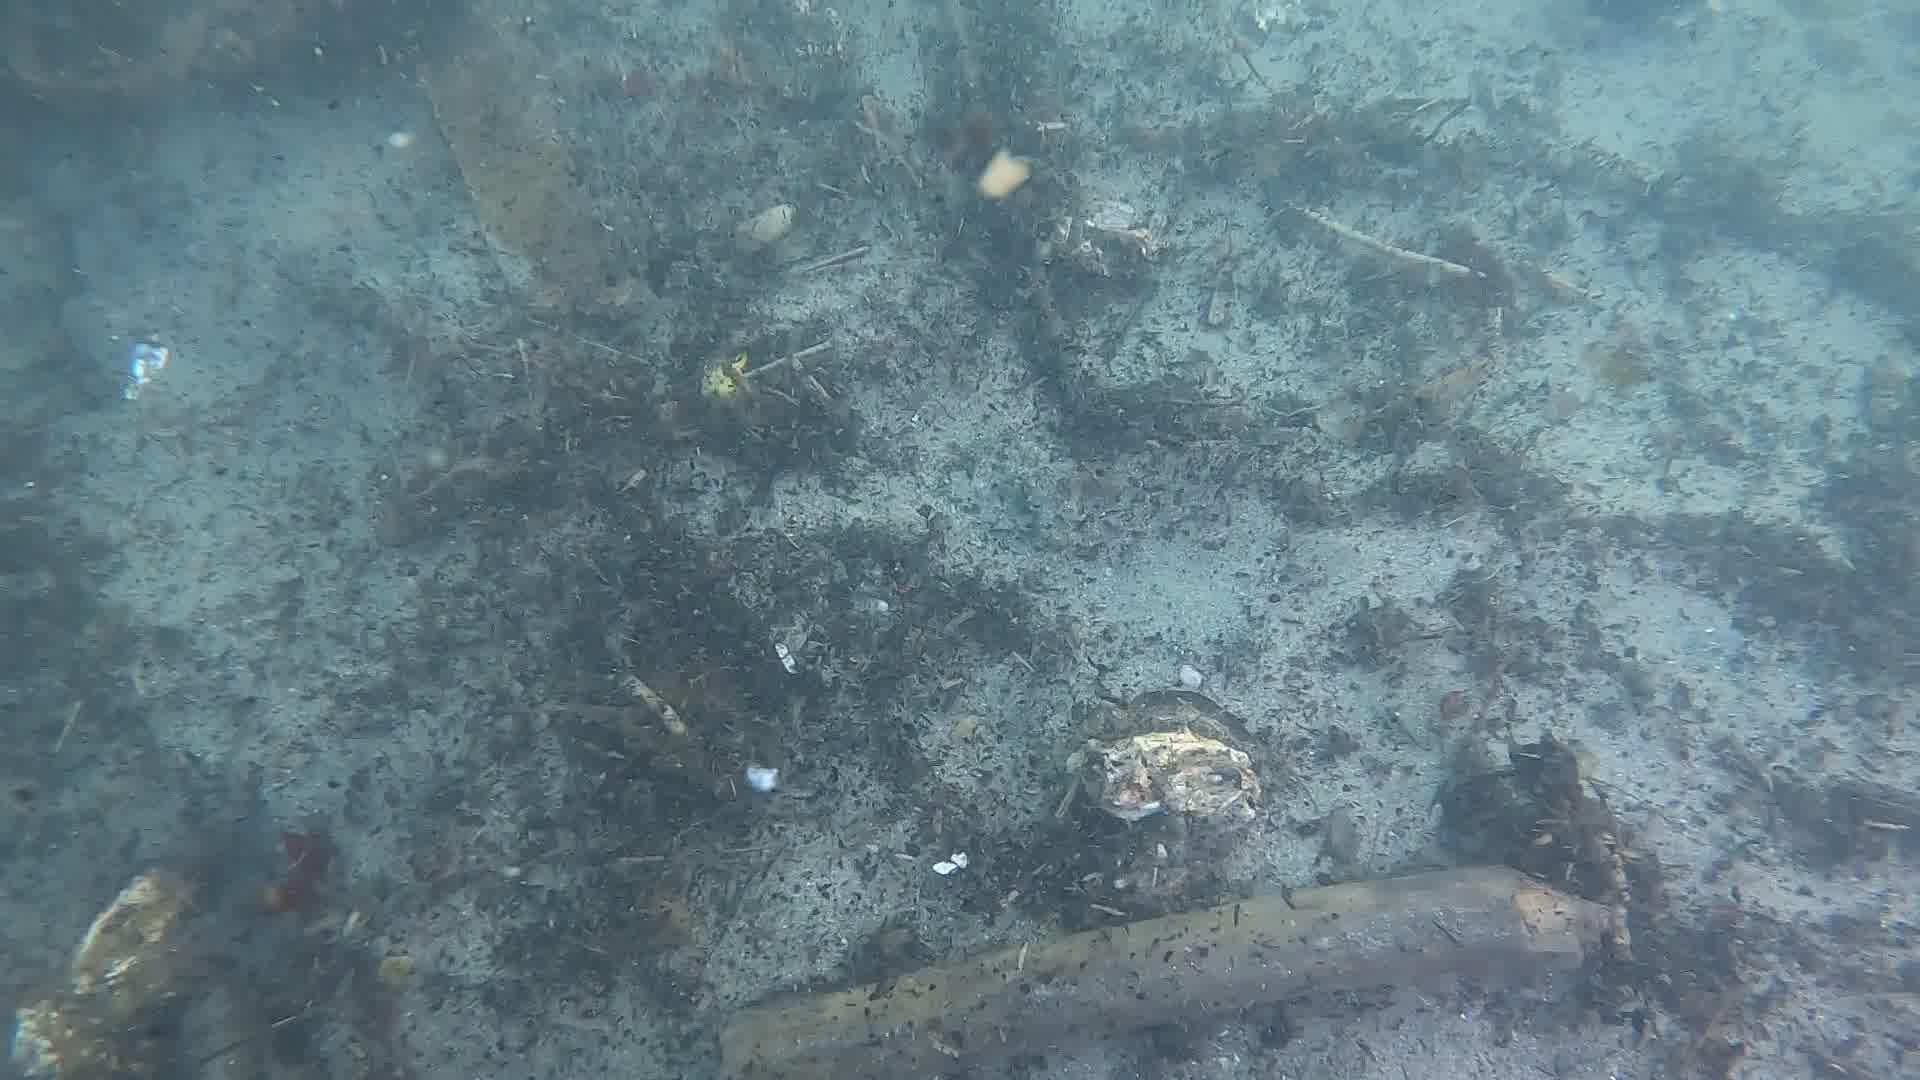wood: (715, 865, 1629, 1080)
